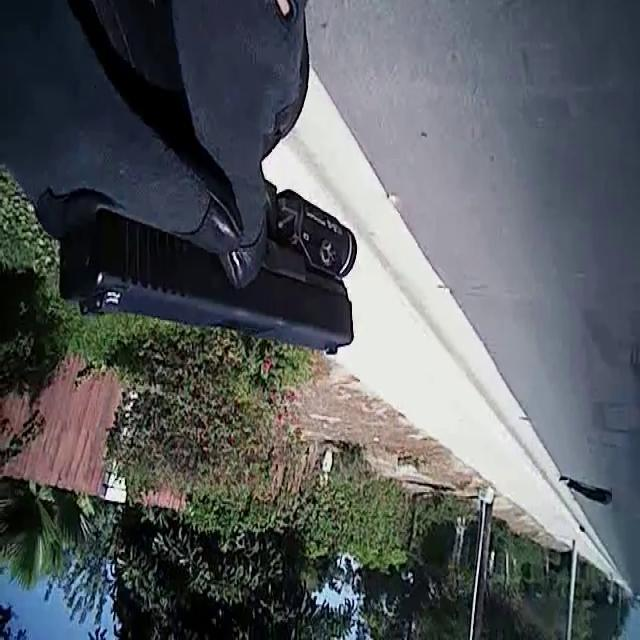gun: (18, 80, 379, 428)
